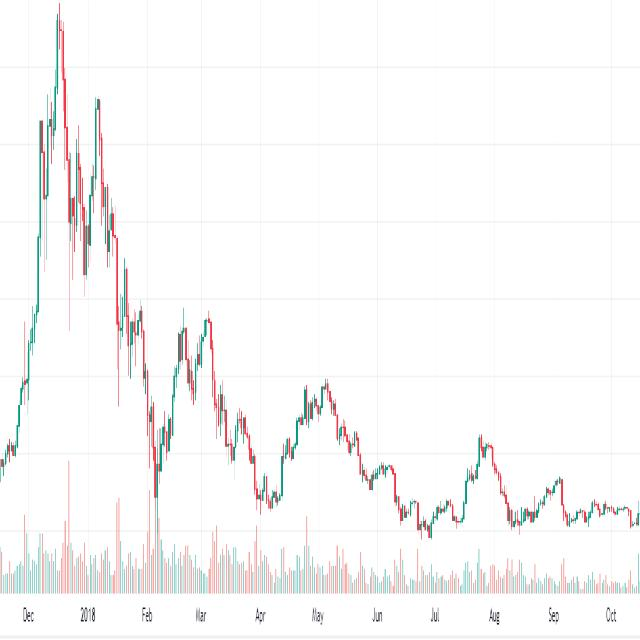Double-Top: (169, 298, 220, 422)
Head-Shoulders: (34, 0, 88, 309)
